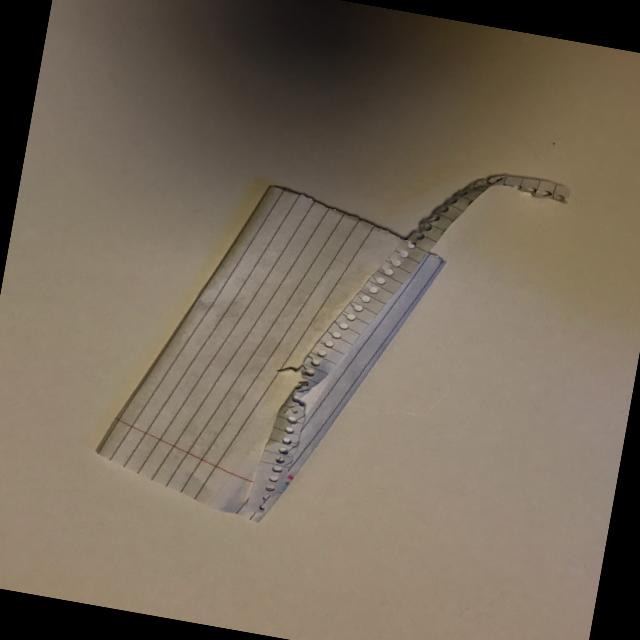Paper: (68, 77, 580, 613)
